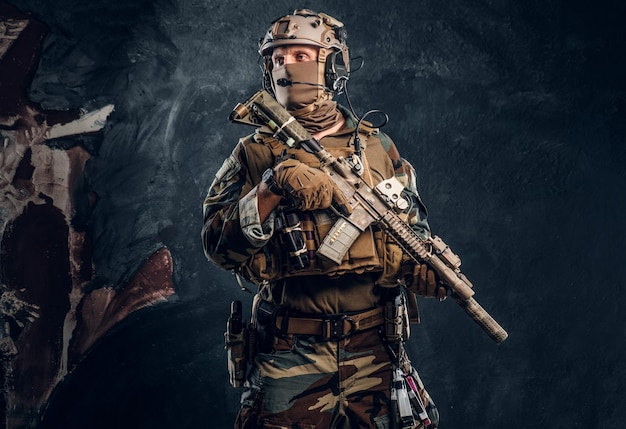gun: (230, 87, 510, 343)
